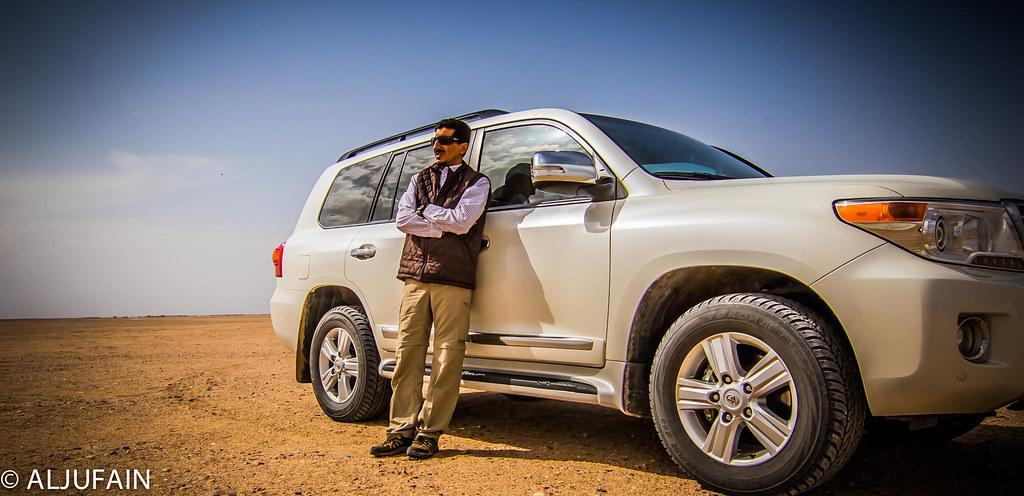car: (270, 107, 1024, 495)
